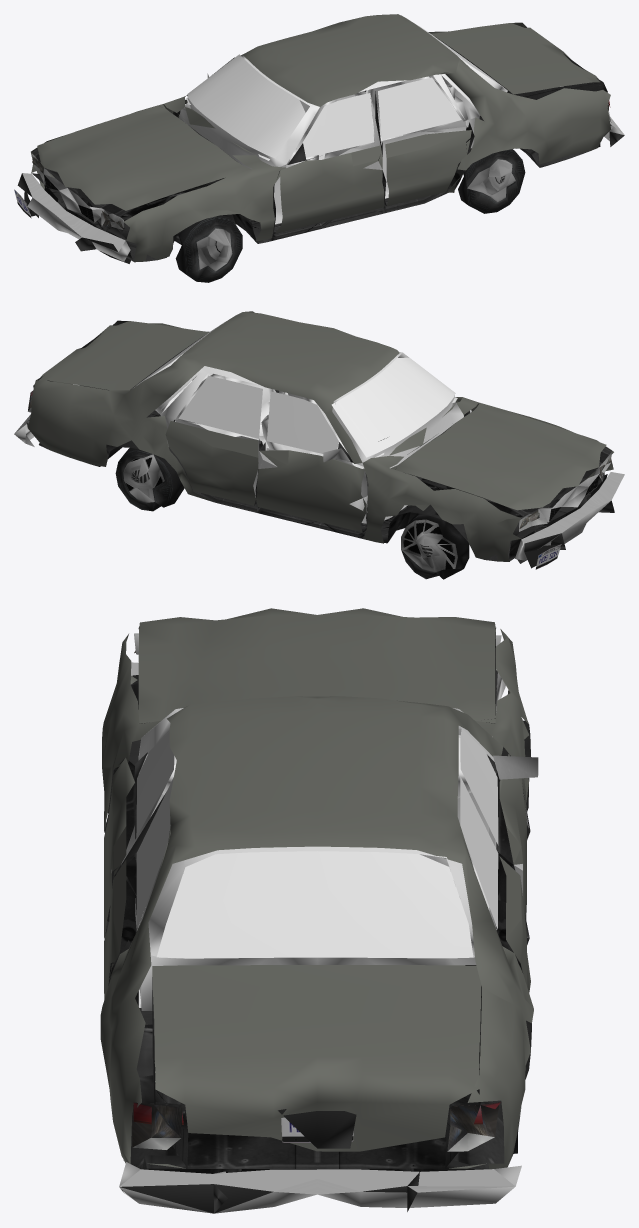
Rendered from CocheLOD3.fbx.
3 views of the same model, one above another, from view 1: azimuth 30°, elevation 25°; view 2: azimuth 150°, elevation 25°; view 3: azimuth 270°, elevation 25° (orthographic). The views are drawn at different scales.
Visible parts, largest first — view 1: body_Bodycolor_0, Hood_Bodycolor_0, Wiendshield_UCB_GLASS_CLEAN_0, Door_FL_Bodycolor_0, trunk_door_Bodycolor_0, Door_RL_Bodycolor_0, bottom_UCB_BOTTOM_0, interior_GEN4DR_INTERIOR_0, Door_Glass_RL_UCB_GLASS_CLEAN_0, Wheel_FL_RIMSTOCK_05_0, Wheel_RL_RIMSTOCK_05_0, Door_Glass_FL_UCB_GLASS_CLEAN_0 (+8 smaller); view 2: body_Bodycolor_0, Hood_Bodycolor_0, Wiendshield_UCB_GLASS_CLEAN_0, Door_FR_Bodycolor_0, trunk_door_Bodycolor_0, Door_RR_Bodycolor_0, bottom_UCB_BOTTOM_0, Door_Glass_RR_UCB_GLASS_CLEAN_0, Wheel_FR_RIMSTOCK_05_0, interior_GEN4DR_INTERIOR_0, Door_Glass_FR_UCB_GLASS_CLEAN_0, Wheel_RR_RIMSTOCK_05_0 (+6 smaller); view 3: body_Bodycolor_0, trunk_door_Bodycolor_0, Hood_Bodycolor_0, Windows_rear_UCB_GLASS_CLEAN_0, bottom_UCB_BOTTOM_0, bumper_rear_UCB_BOTTOM_0, interior_GEN4DR_INTERIOR_0, Taillights_UCB_BOTTOM_0, Door_Glass_RR_UCB_GLASS_CLEAN_0, Door_FL_Bodycolor_0, Door_Glass_RL_UCB_GLASS_CLEAN_0, Door_Glass_FR_UCB_GLASS_CLEAN_0 (+8 smaller).
Boxes of the visible parts, box(x1,y1,x2,y2) form: body_Bodycolor_0: box(31, 14, 611, 262); Hood_Bodycolor_0: box(37, 104, 251, 210); Wiendshield_UCB_GLASS_CLEAN_0: box(187, 54, 305, 158); Door_FL_Bodycolor_0: box(275, 145, 384, 233); trunk_door_Bodycolor_0: box(431, 23, 599, 94); Door_RL_Bodycolor_0: box(385, 130, 471, 206); bottom_UCB_BOTTOM_0: box(31, 37, 611, 263); interior_GEN4DR_INTERIOR_0: box(179, 15, 507, 224); Door_Glass_RL_UCB_GLASS_CLEAN_0: box(378, 77, 461, 139); Wheel_FL_RIMSTOCK_05_0: box(175, 215, 242, 282); Wheel_RL_RIMSTOCK_05_0: box(458, 149, 525, 213); Door_Glass_FL_UCB_GLASS_CLEAN_0: box(302, 93, 374, 157); body_Bodycolor_0: box(26, 311, 613, 561); Hood_Bodycolor_0: box(391, 403, 606, 510); Wiendshield_UCB_GLASS_CLEAN_0: box(331, 357, 454, 457); Door_FR_Bodycolor_0: box(256, 450, 366, 532); trunk_door_Bodycolor_0: box(33, 321, 208, 390); Door_RR_Bodycolor_0: box(165, 421, 258, 505); bottom_UCB_BOTTOM_0: box(28, 320, 607, 563); Door_Glass_RR_UCB_GLASS_CLEAN_0: box(178, 375, 262, 438); Wheel_FR_RIMSTOCK_05_0: box(401, 513, 469, 579); interior_GEN4DR_INTERIOR_0: box(145, 339, 463, 523); Door_Glass_FR_UCB_GLASS_CLEAN_0: box(267, 391, 338, 453); Wheel_RR_RIMSTOCK_05_0: box(115, 448, 184, 511); body_Bodycolor_0: box(100, 629, 533, 1169); trunk_door_Bodycolor_0: box(152, 965, 481, 1151); Hood_Bodycolor_0: box(138, 608, 495, 723); Windows_rear_UCB_GLASS_CLEAN_0: box(157, 851, 473, 958); bottom_UCB_BOTTOM_0: box(107, 670, 531, 1173); bumper_rear_UCB_BOTTOM_0: box(119, 1162, 521, 1213); interior_GEN4DR_INTERIOR_0: box(138, 708, 496, 1010); Taillights_UCB_BOTTOM_0: box(132, 1102, 498, 1151); Door_Glass_RR_UCB_GLASS_CLEAN_0: box(460, 776, 498, 929); Door_FL_Bodycolor_0: box(104, 757, 134, 938); Door_Glass_RL_UCB_GLASS_CLEAN_0: box(136, 778, 173, 929); Door_Glass_FR_UCB_GLASS_CLEAN_0: box(460, 728, 498, 845).
Size of the model in its own units: 497 by 135 by 178.
